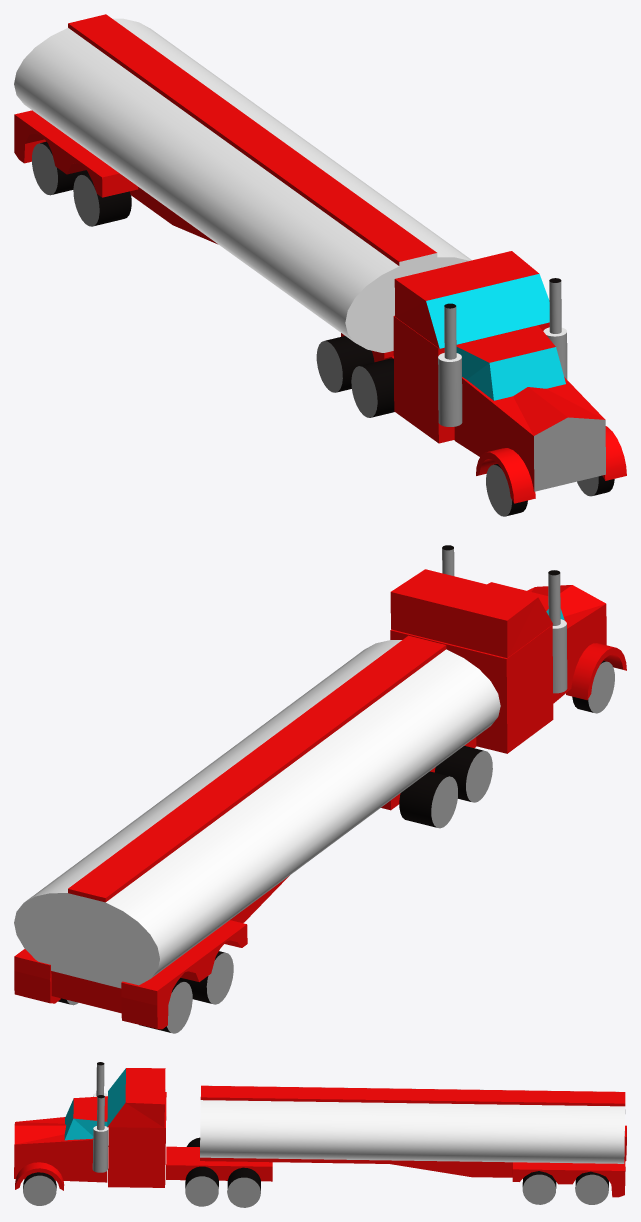
Rendered from truck5_8.dae.
The picture shows the model from 3 angles, top to bottom: view 1: azimuth 30°, elevation 25°; view 2: azimuth 150°, elevation 25°; view 3: azimuth 270°, elevation 25°; orthographic projection. The views are drawn at different scales.
Visible parts, largest first — view 1: SketchUp (×22); view 2: SketchUp (×17); view 3: SketchUp (×21).
Part boxes in pixels (x1,y1,x2,y2): SketchUp (×22): (14,14,626,516); SketchUp (×17): (14,569,626,1033); SketchUp (×21): (14,1064,625,1207).
Bounding box in the file's own units: 134 × 749 × 149.
